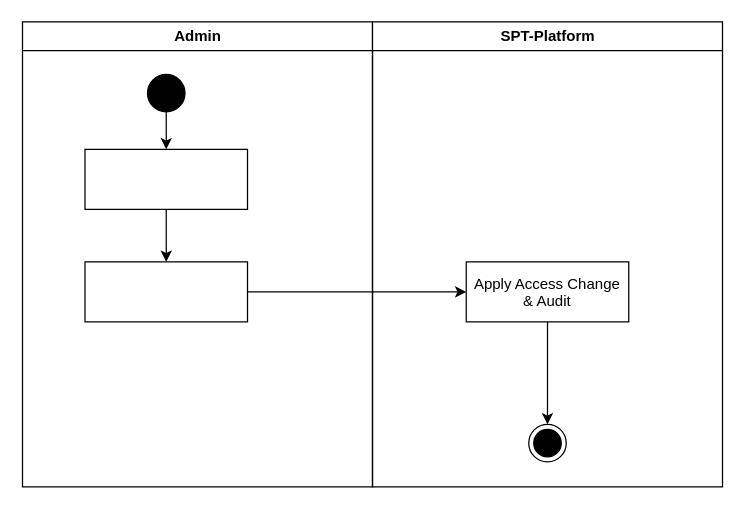
Some shapes in this 744 by 509 pixel diagram are drawn without their labels. Each missing label, with the centre of its shape:
"Select Target Account" goes at [166,178].
"Set Status (Lock/Unlock/Reinstate)" goes at [166,291].
